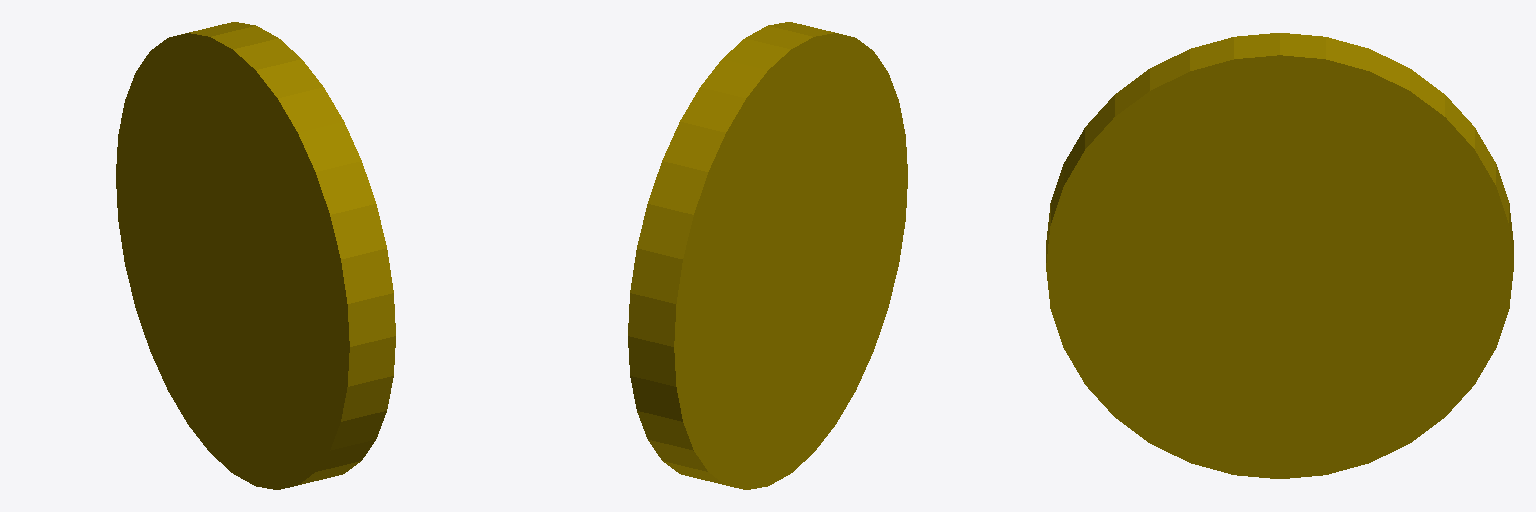
Rendered from goldCoin.obj.
3 views of the same model, side by side, from view 1: azimuth 30°, elevation 25°; view 2: azimuth 150°, elevation 25°; view 3: azimuth 270°, elevation 25° (orthographic).
Parts seen in each view (by area): view 1: Cylinder.001; view 2: Cylinder.001; view 3: Cylinder.001.
Part boxes in pixels (left/top/right/bottom): Cylinder.001: left=116, top=22, right=395, bottom=489; Cylinder.001: left=628, top=22, right=907, bottom=489; Cylinder.001: left=1046, top=33, right=1513, bottom=478.
Size of the model in its own units: 0.2286 by 2 by 2.